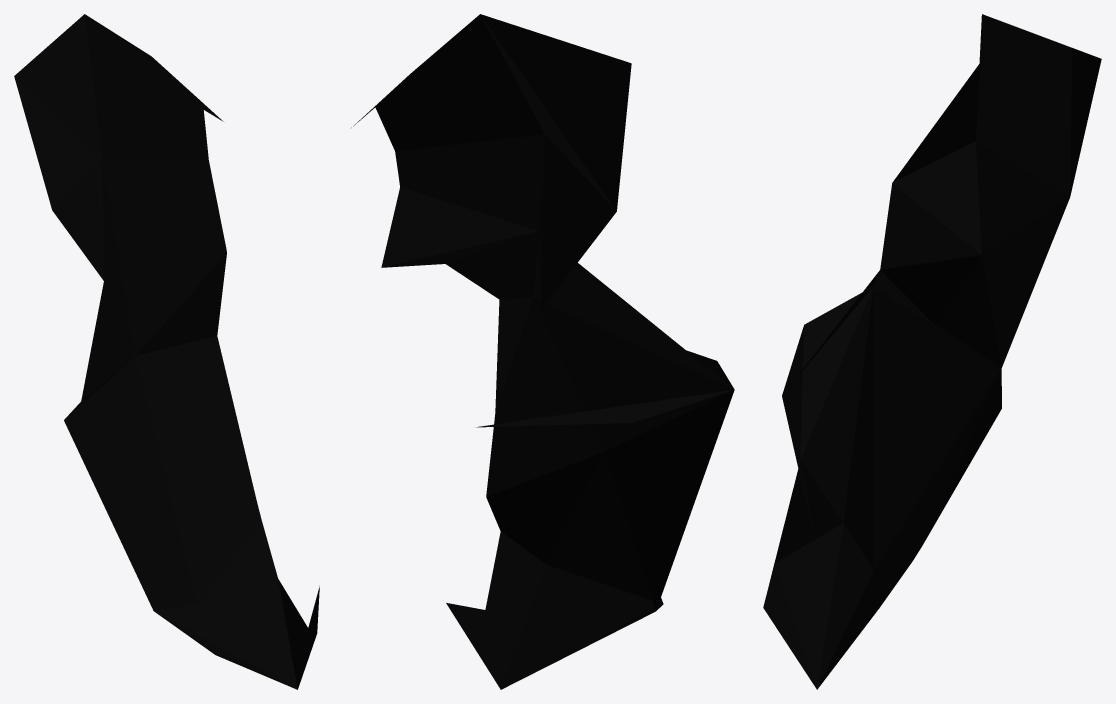
3 renders of one model, left to right at view 1: azimuth 30°, elevation 25°; view 2: azimuth 150°, elevation 25°; view 3: azimuth 270°, elevation 25°, orthographic. The views are drawn at different scales.
Size of the model in its own units: 0.1919 by 0.4982 by 0.2566.
Materials: 1 (1 with a texture image).
